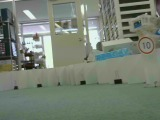speed_10: (137, 36, 155, 55)
